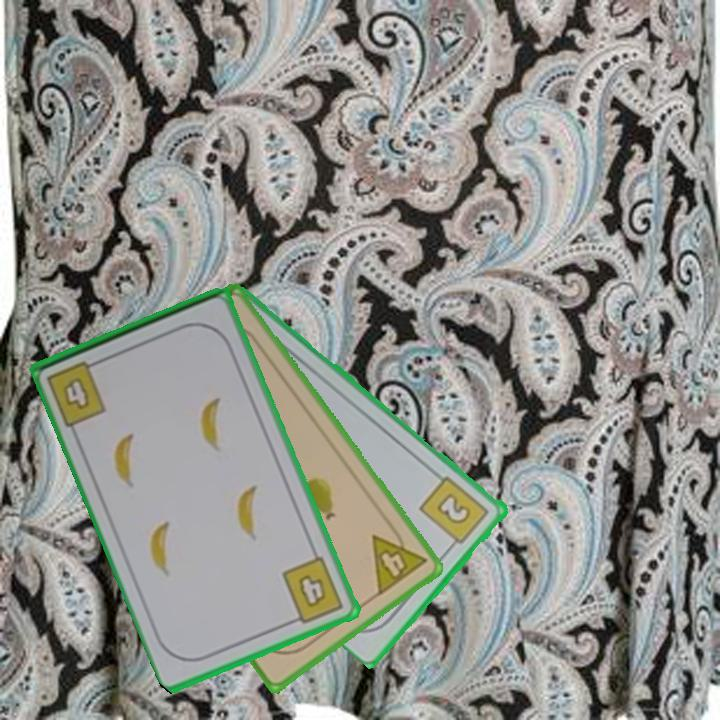2b: (416, 472, 493, 552)
4b: (278, 553, 347, 628), (43, 356, 110, 429)
4p: (368, 519, 430, 599)
